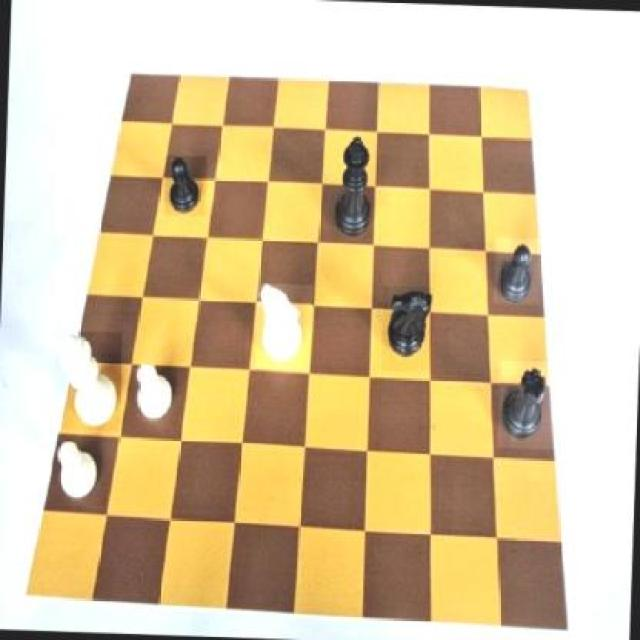black-bishop: (330, 132, 378, 238)
black-king: (382, 284, 434, 372)
black-knight: (494, 237, 541, 305), (165, 156, 208, 217)
black-queen: (497, 360, 558, 450)
white-bishop: (54, 331, 123, 432)
white-king: (254, 283, 311, 373)
white-knight: (51, 431, 108, 506), (130, 357, 182, 437)
